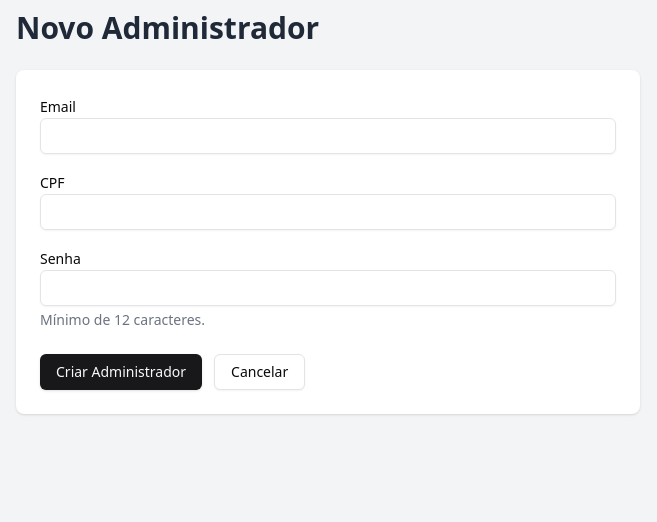
Test: AdminUserNewView › should show the backend error message on failure (e.g. duplicate email)
In the field with test id "email-input": (328, 136) [40, 118, 616, 154], type "dup@example.com"
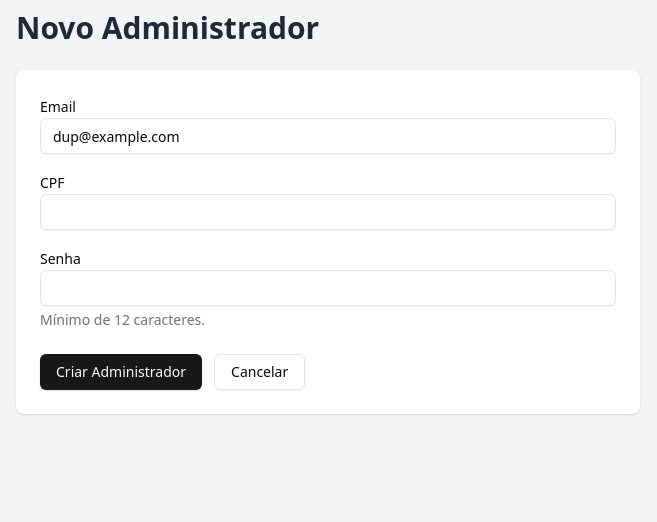
In the field with test id "cpf-input": (328, 212) [40, 194, 616, 230], type "11144477735"
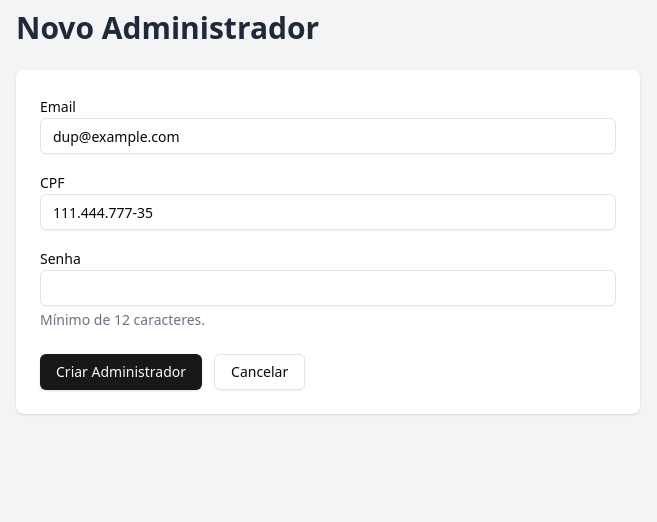
In the password field with test id "password-input": (328, 288) [40, 270, 616, 306], type "supersecretpw12"
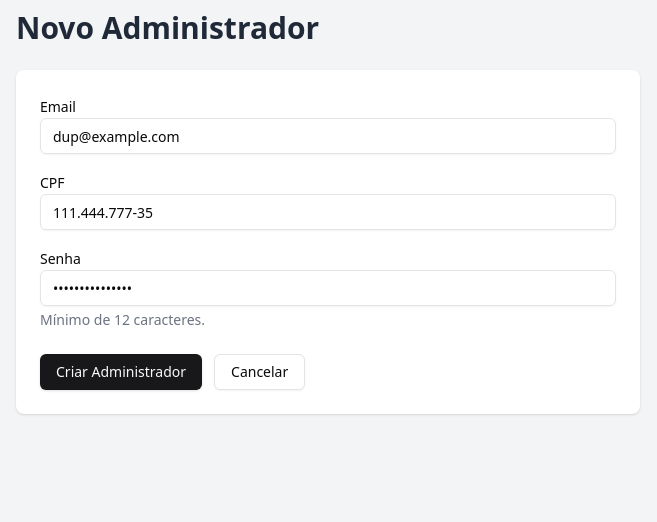
Submit the form with test id "admin-user-form"
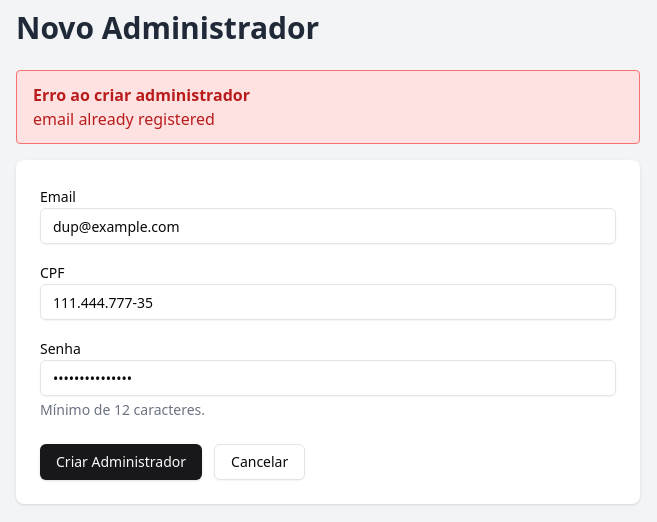
Expected: the message with test id "error-alert" shows "email already registered", [33, 108, 215, 130]
